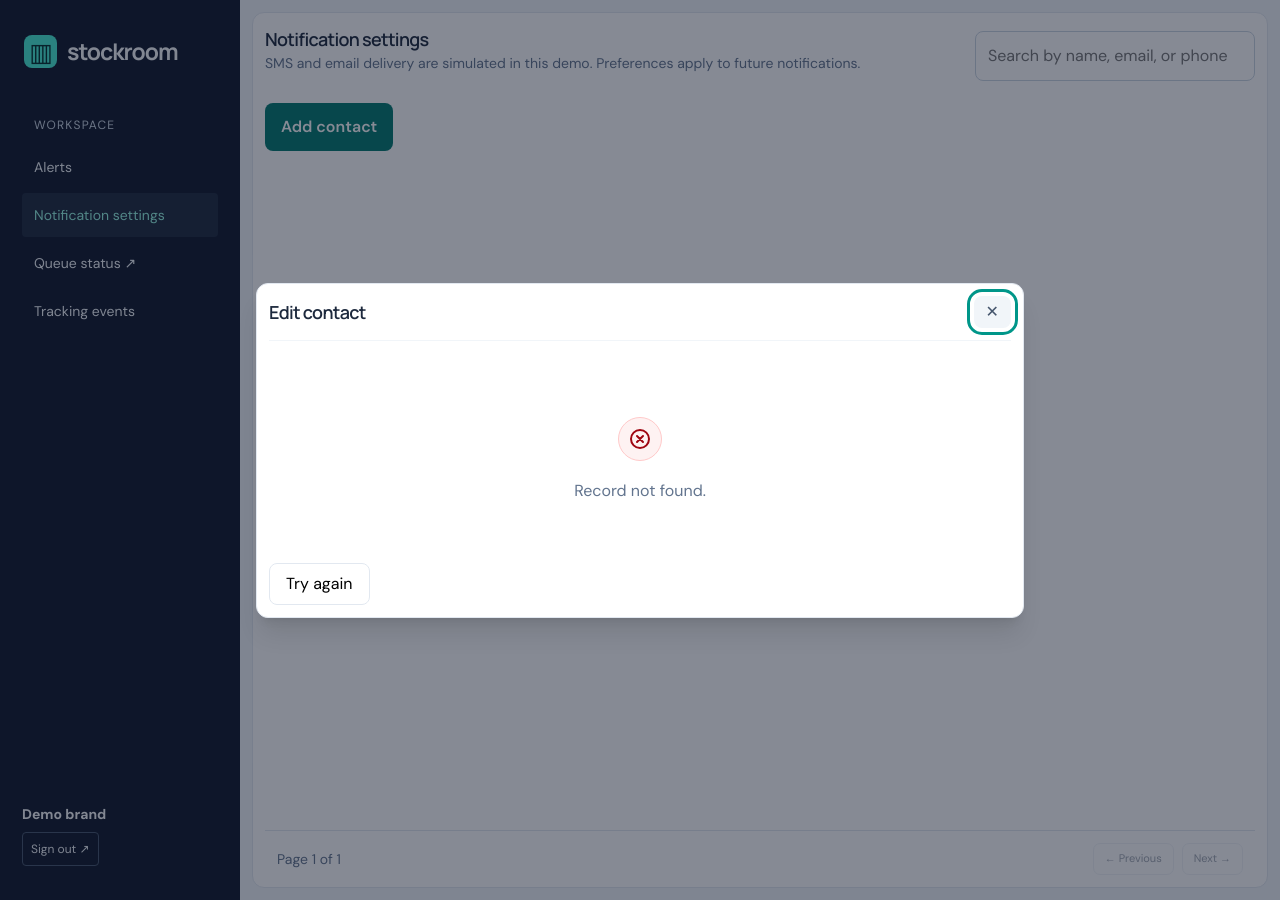
Test: shows an unavailable contact in the dialog without exposing an edit form
Expected: the message "Record not found." is shown, [574,416,706,500]
Click the button named "Close dialog": coordinates (992, 312) [974,296,1011,328]
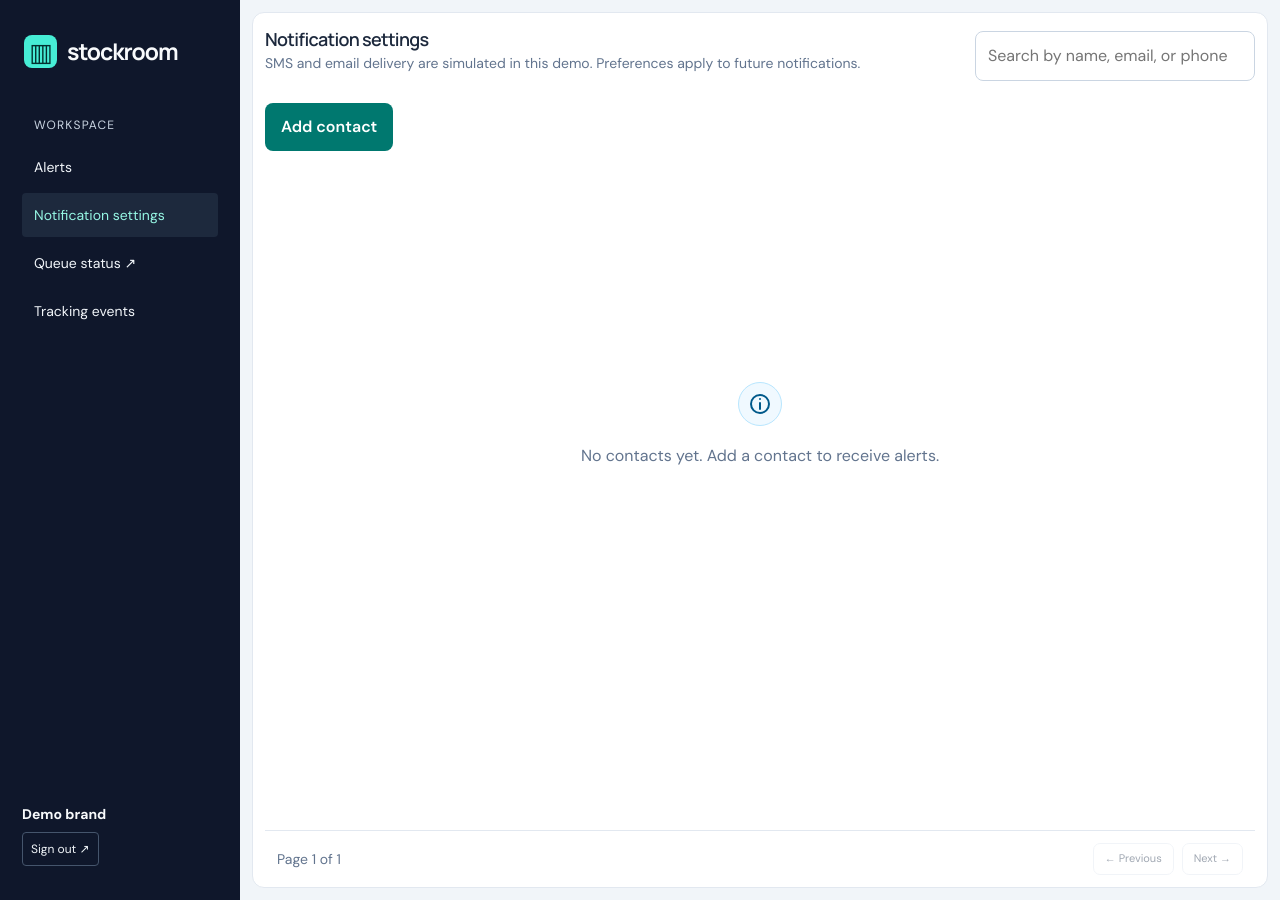
Expected: the dialog is gone
